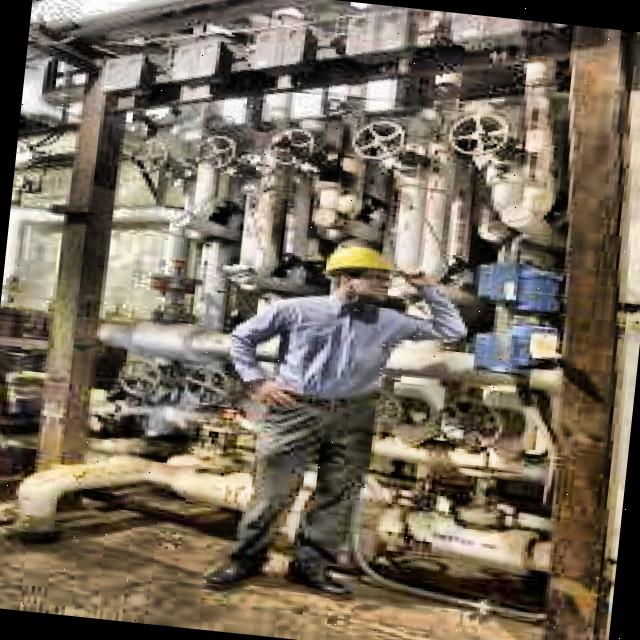helmet: (316, 234, 405, 308)
